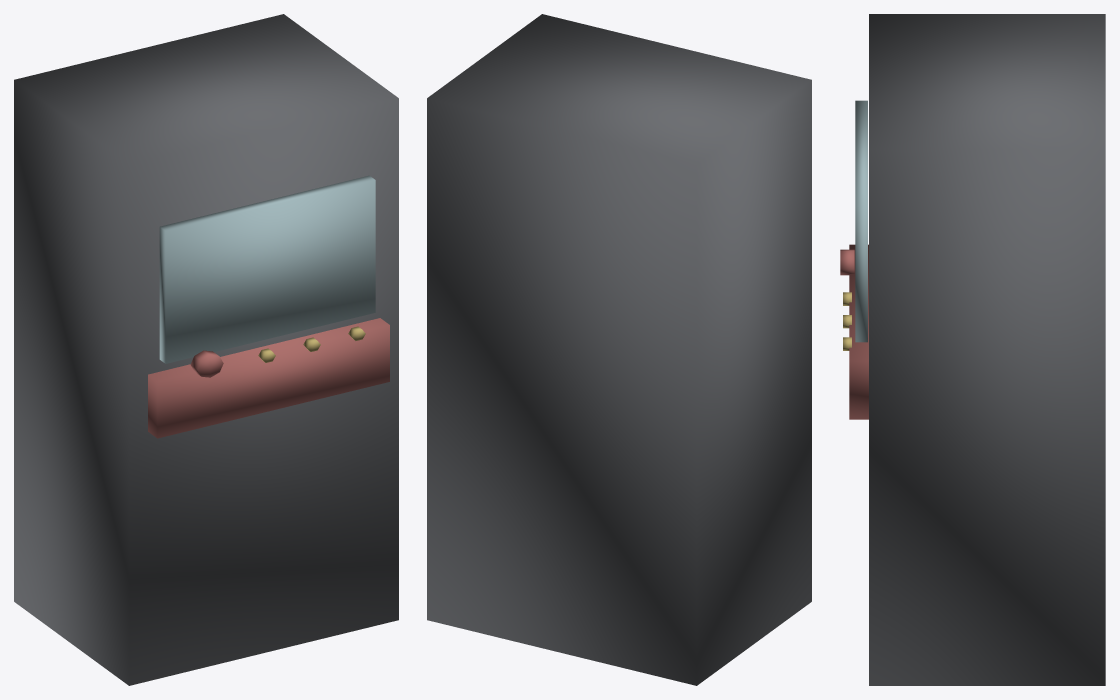
Rendered from arcade_cabinet__wide.glb.
3 renders of one model, left to right at view 1: azimuth 30°, elevation 25°; view 2: azimuth 150°, elevation 25°; view 3: azimuth 270°, elevation 25°, orthographic. The views are drawn at different scales.
Visible parts, largest first — view 1: world; view 2: world; view 3: world.
Part boxes in pixels (left/top/right/bottom): world: left=14, top=14, right=398, bottom=685; world: left=427, top=14, right=811, bottom=685; world: left=840, top=14, right=1105, bottom=685.
Size of the model in its own units: 0.8928 by 1.65 by 0.74.
